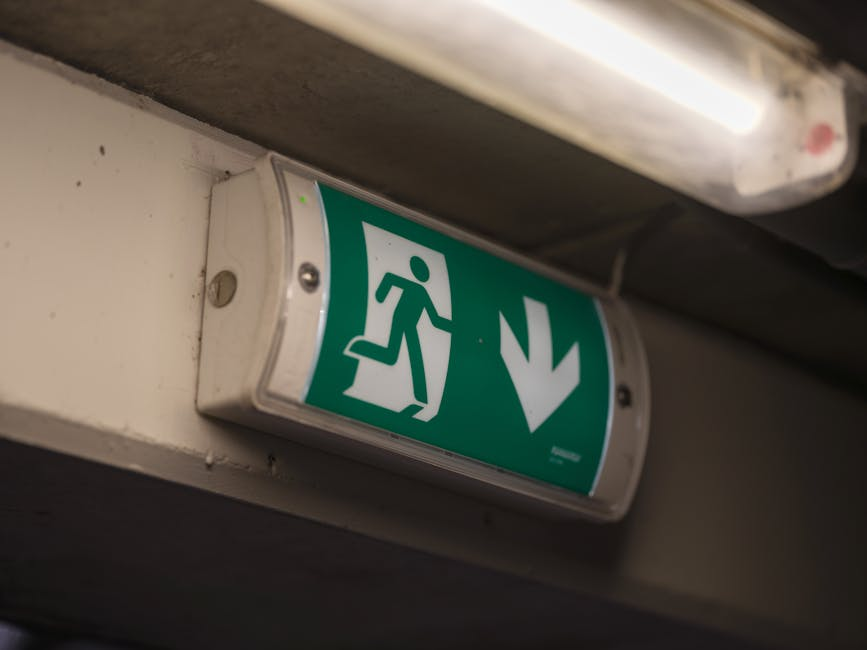emergency_exit: (194, 149, 653, 526)
